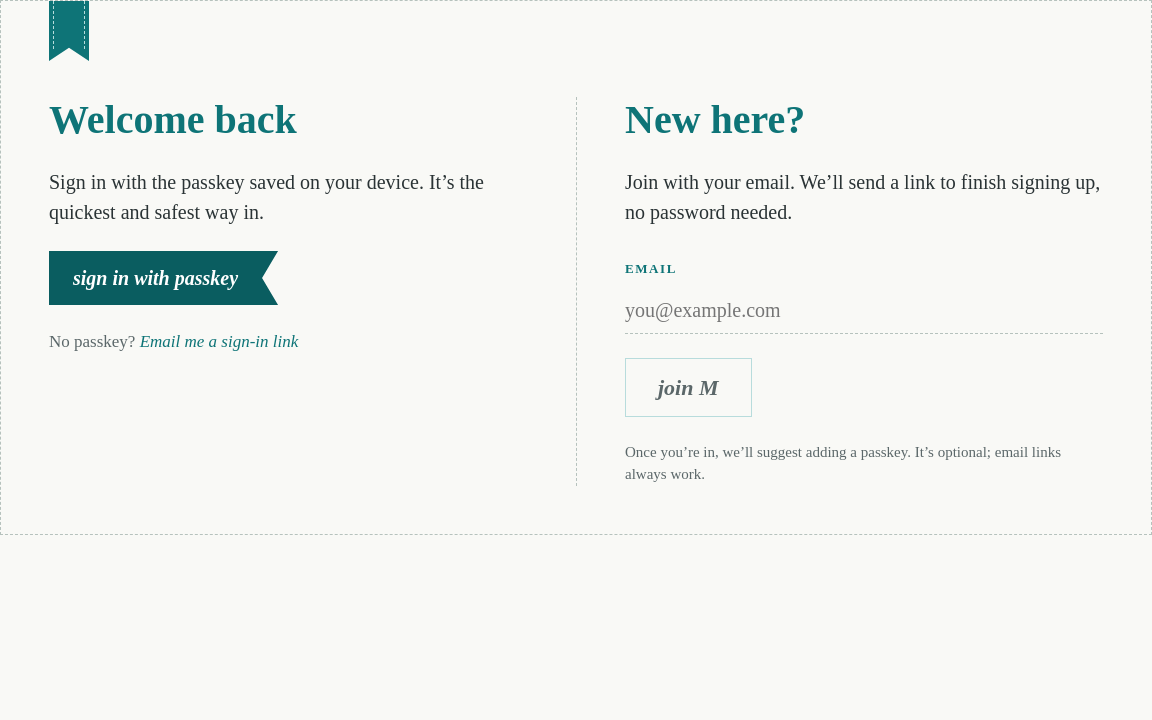
Test case: LoginForm › opens email sign-in from “No passkey?”
The image size is (1152, 720).
Click the text "Email me a sign-in link".
click(219, 342)  # box x1=140 y1=332 x2=298 y2=351
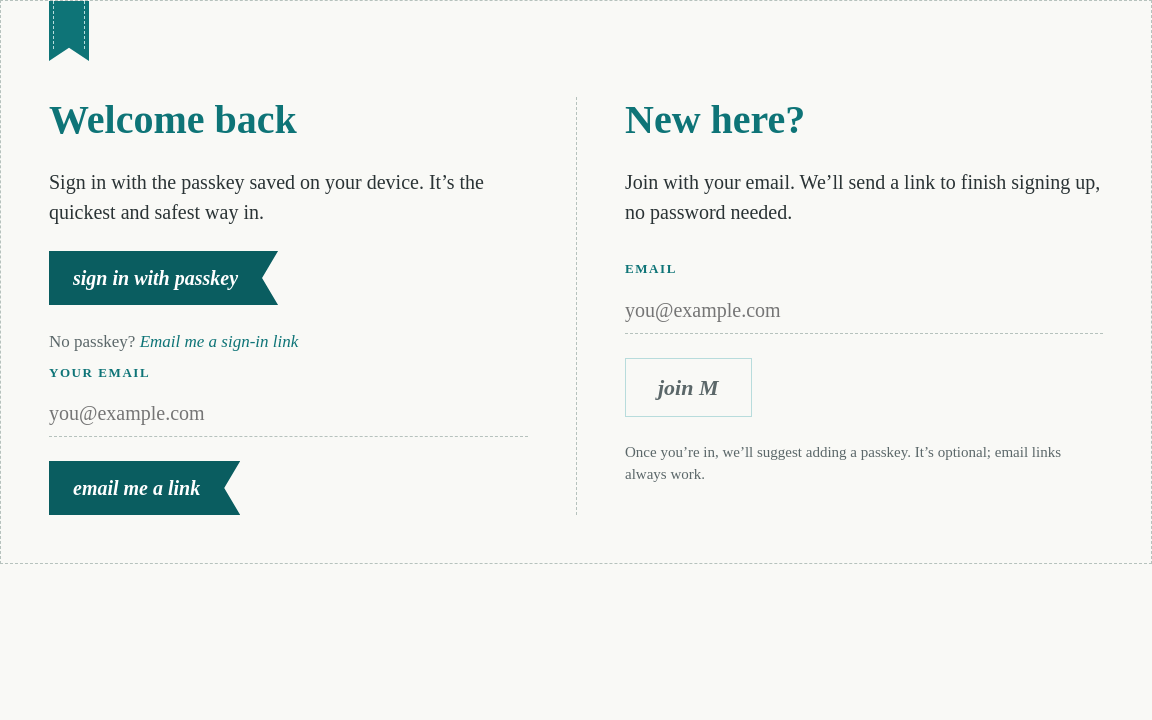
Now the field labelled "Your email" is shown, box x1=49 y1=390 x2=528 y2=436
Now the button "email me a link" is shown, box x1=49 y1=461 x2=240 y2=515
